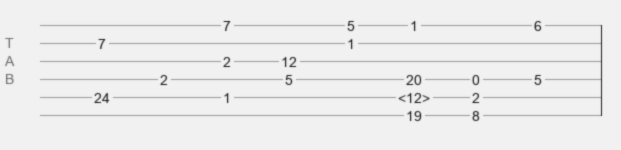0: (472, 72, 480, 82)
1: (223, 90, 231, 100), (347, 36, 355, 46), (410, 18, 418, 28)
12: (281, 54, 297, 64)
19: (406, 108, 422, 118)
2: (160, 72, 168, 82), (223, 54, 231, 64), (472, 90, 480, 100)
20: (406, 72, 422, 82)
24: (94, 90, 110, 100)
5: (285, 72, 293, 82), (347, 18, 355, 28), (534, 72, 542, 82)
6: (534, 18, 542, 28)
7: (98, 36, 106, 46), (223, 18, 231, 28)
8: (472, 108, 480, 118)
harmonic: (398, 90, 430, 100)
